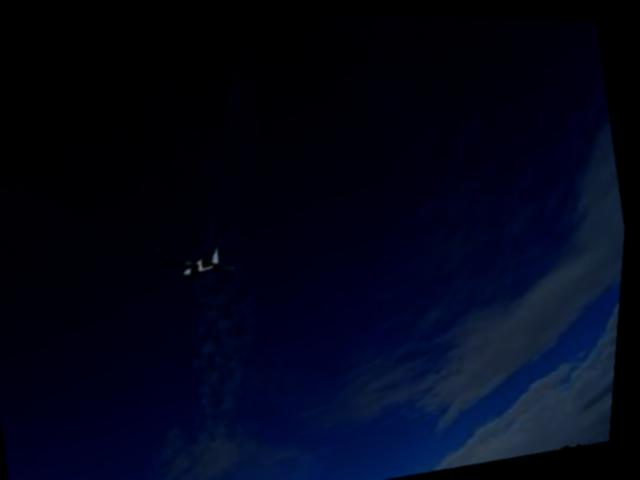uav: (147, 218, 252, 300)
